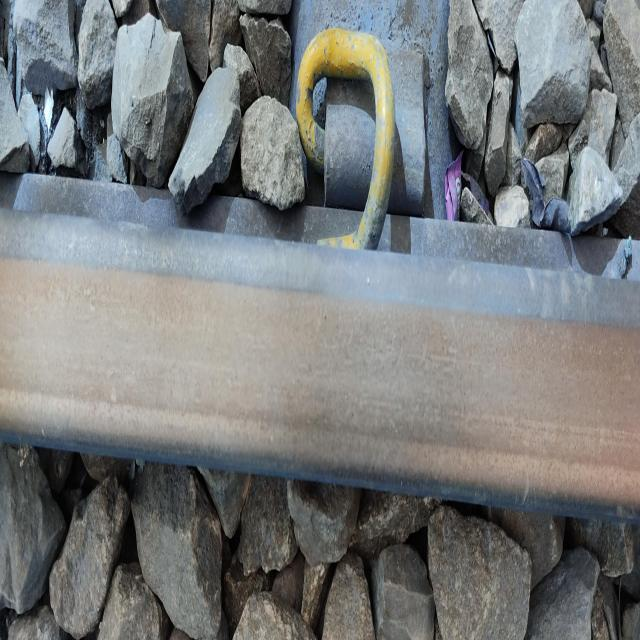Good Fasteners: (292, 28, 415, 280)
